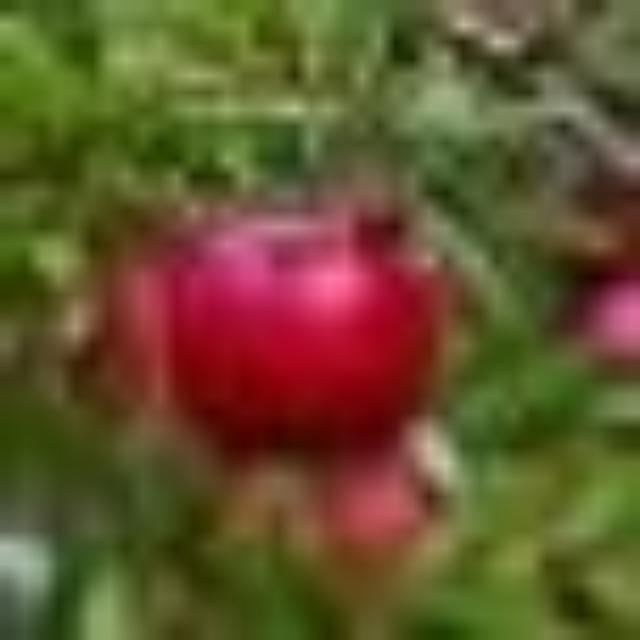Apple: (157, 214, 443, 444)
